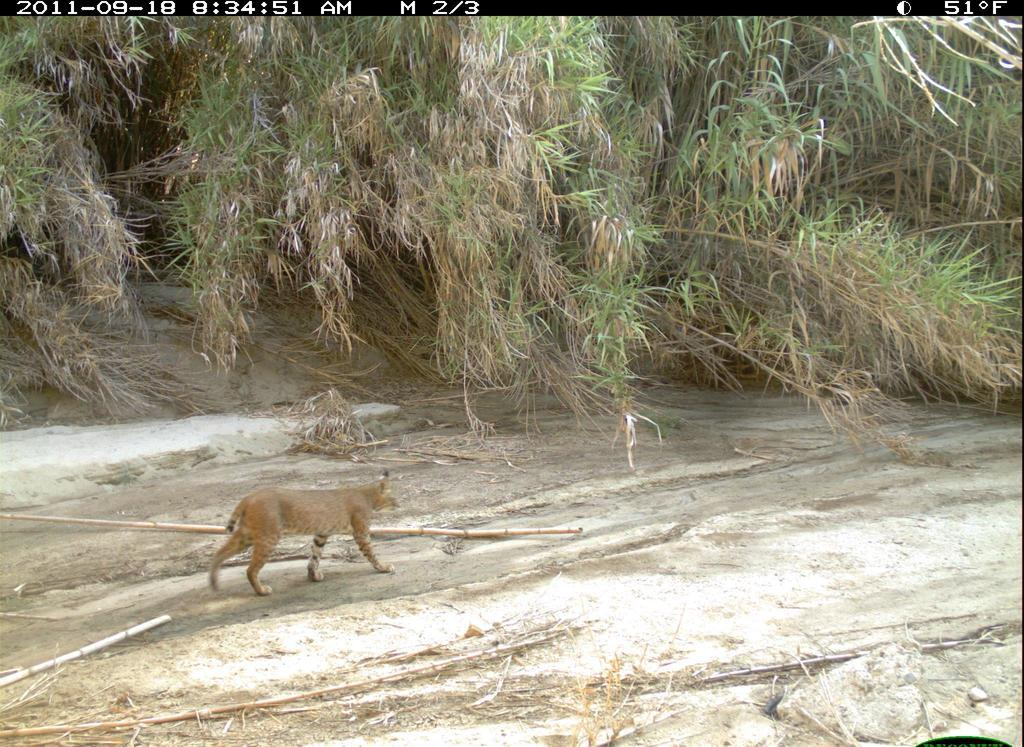bobcat: (203, 466, 408, 605)
